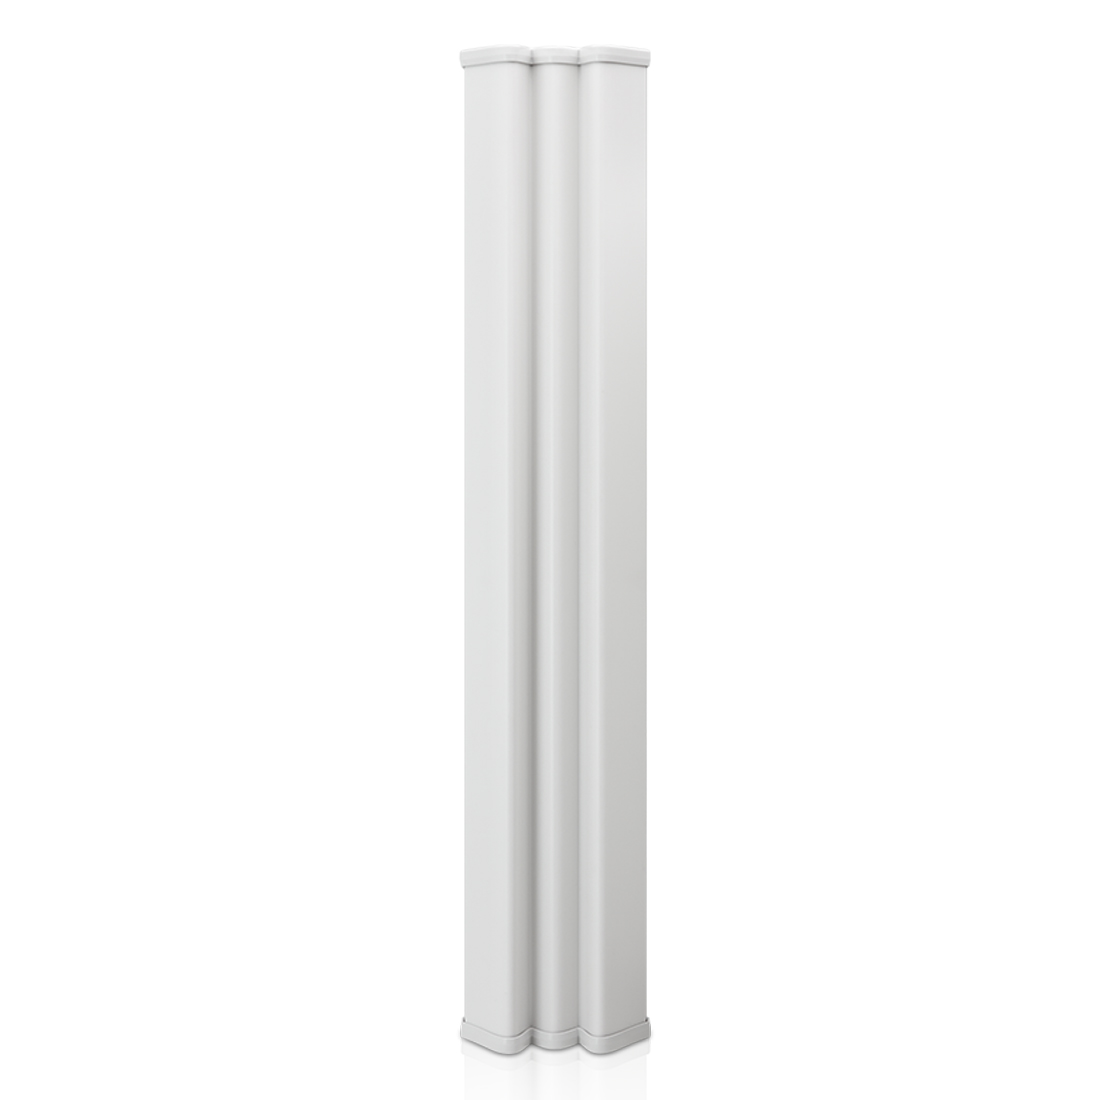sa: (403, 62, 713, 1056)
